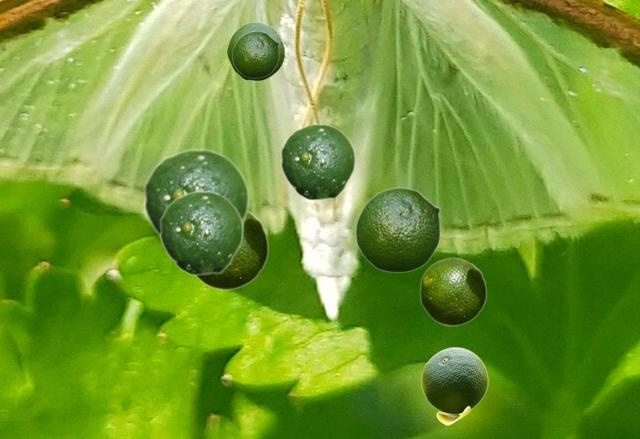calamansi: (143, 148, 249, 239), (355, 187, 440, 272), (159, 190, 243, 275), (280, 123, 355, 200), (195, 211, 268, 289), (421, 347, 487, 424), (419, 257, 486, 325), (226, 21, 284, 80), (232, 31, 278, 77)
